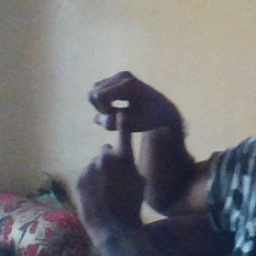Q: (77, 69, 163, 210)
